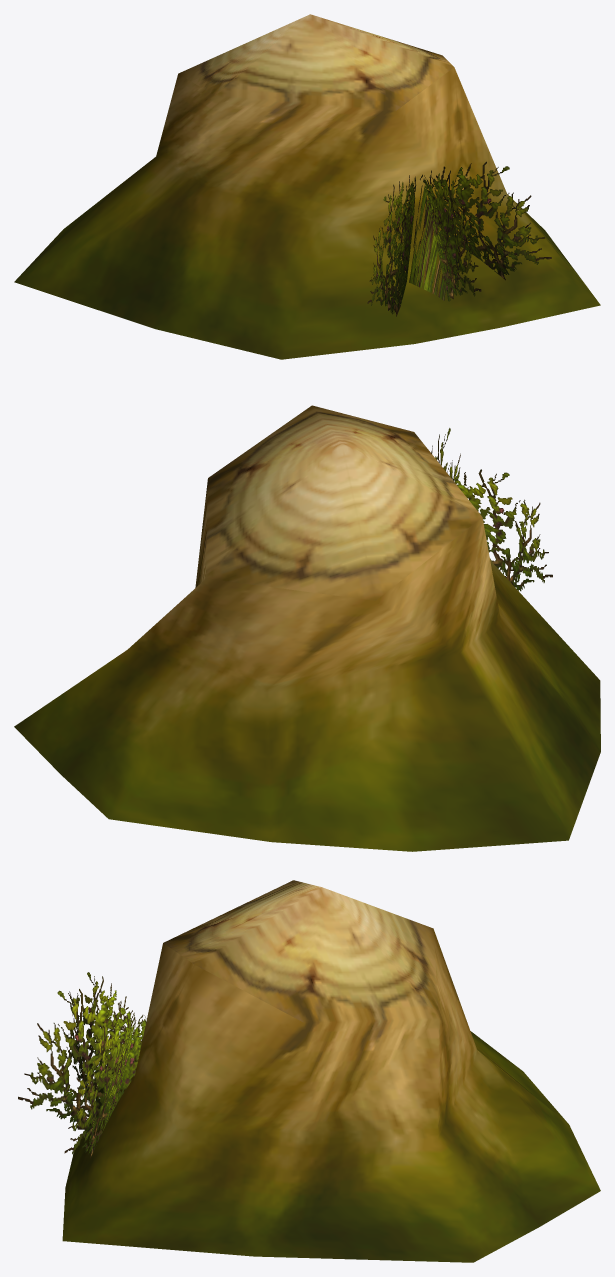
Rendered from elwynntreestump02.obj.
3 views of the same model, one above another, from view 1: azimuth 30°, elevation 25°; view 2: azimuth 150°, elevation 25°; view 3: azimuth 270°, elevation 25° (orthographic). The views are drawn at different scales.
Parts seen in each view (by area): view 1: Geoset0, Geoset1; view 2: Geoset0, Geoset1; view 3: Geoset0, Geoset1.
Boxes of the visible parts, x1,y1,x2,y2 form: Geoset0: (14, 14, 600, 359); Geoset1: (367, 161, 551, 316); Geoset0: (14, 405, 600, 851); Geoset1: (431, 428, 552, 591); Geoset0: (62, 880, 600, 1262); Geoset1: (18, 972, 146, 1158).
Size of the model in its own units: 4.7 by 2.41 by 4.82.
2 materials, 2 textured.
